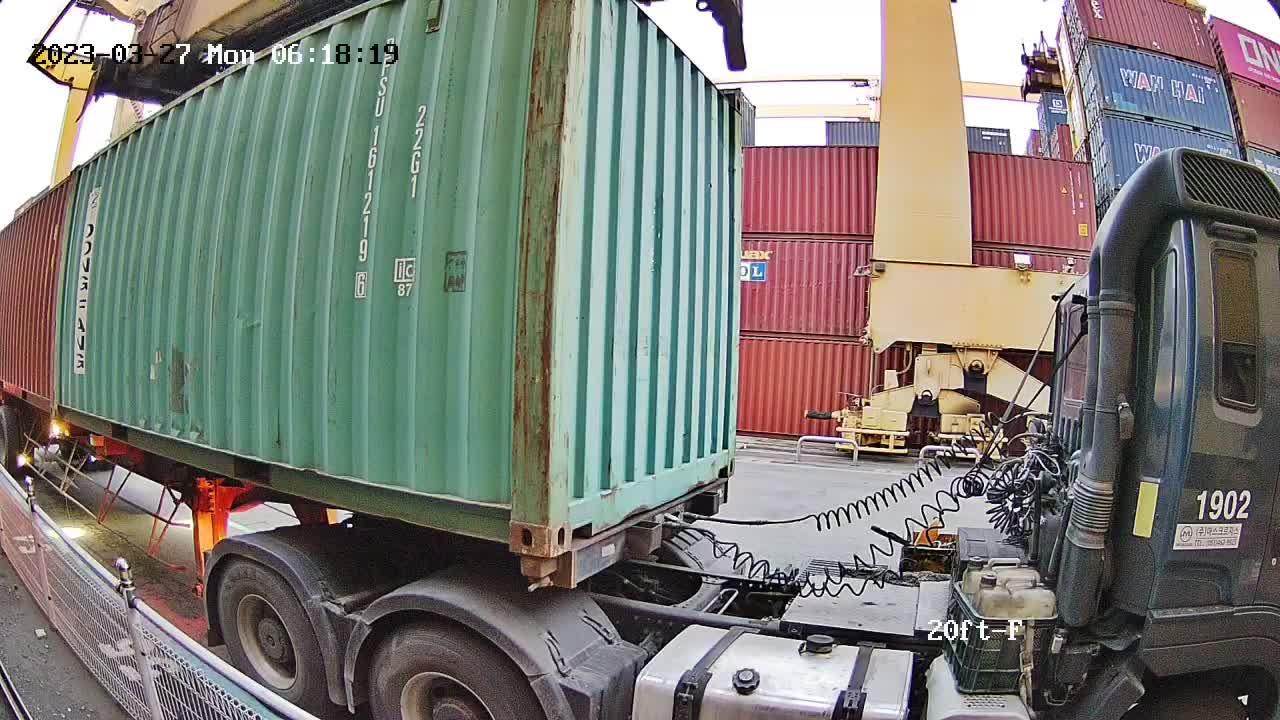Chassis: (547, 479, 730, 588)
Cone: (521, 555, 559, 589)
Hole_L: (548, 467, 600, 558)
Hole_R: (479, 470, 550, 558), (712, 433, 736, 481)
Tire: (218, 562, 326, 717), (370, 630, 529, 714)
